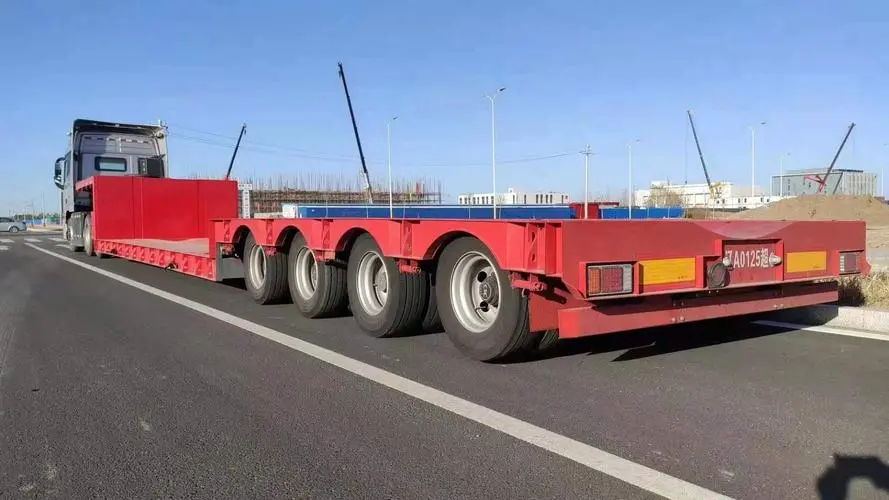bigtruck: (41, 109, 858, 390)
